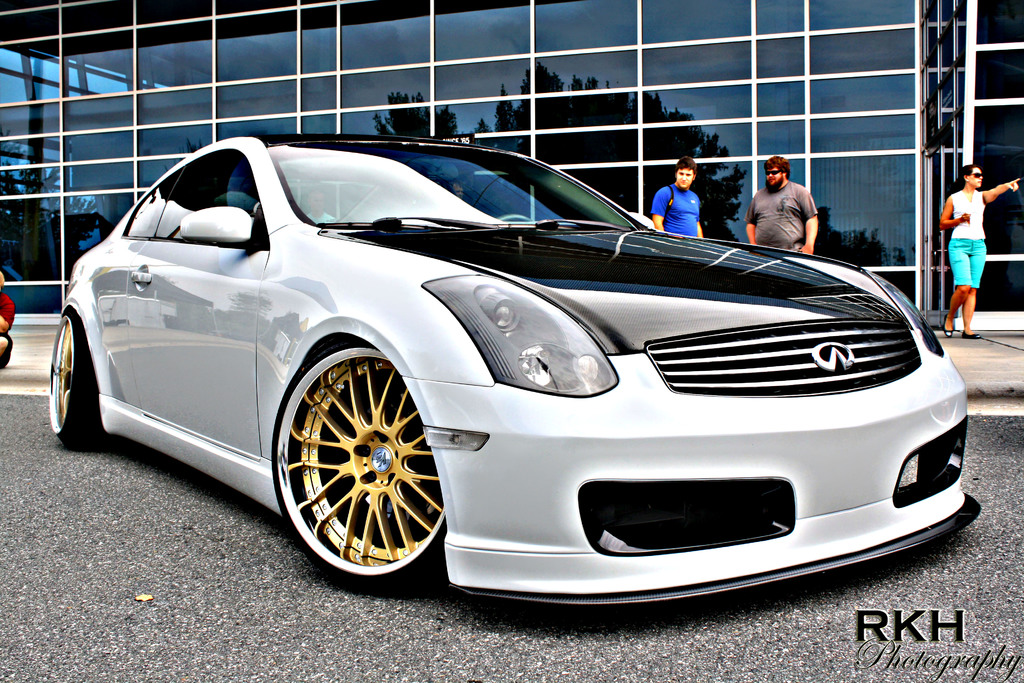Person: (937, 159, 1021, 341), (742, 155, 818, 254), (652, 154, 703, 239), (0, 271, 13, 368), (304, 188, 337, 225)
